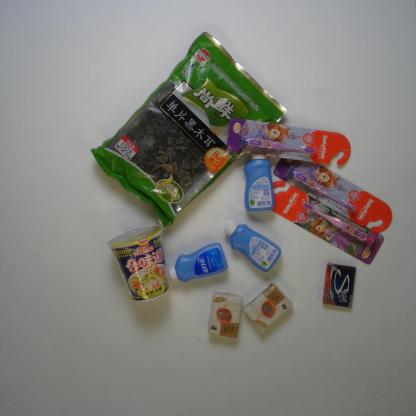Dried Food: (92, 30, 289, 231)
Gum: (323, 262, 358, 310)
Instant Noodles: (107, 227, 168, 304)
Personal Hygiene: (270, 176, 386, 265), (273, 152, 393, 233), (223, 116, 352, 168), (222, 219, 281, 274), (168, 243, 227, 284), (242, 148, 274, 210)
Tissue: (242, 280, 292, 334), (204, 292, 240, 340)
